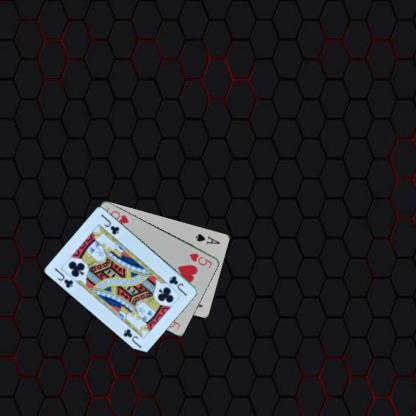5h: (187, 250, 214, 269)
As: (193, 231, 221, 245)
Jc: (52, 265, 75, 290), (166, 273, 188, 297)
